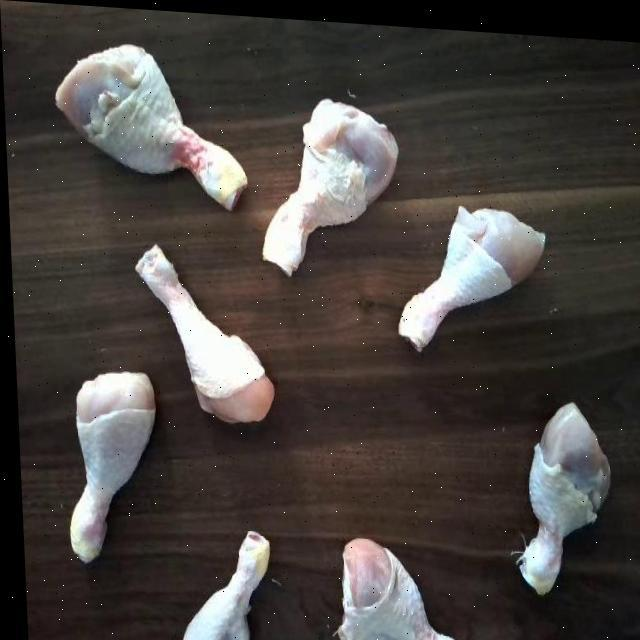leg: (51, 36, 252, 210), (388, 173, 550, 357), (256, 75, 399, 276), (124, 240, 276, 428), (51, 361, 158, 568), (314, 520, 476, 640), (168, 504, 269, 640)
